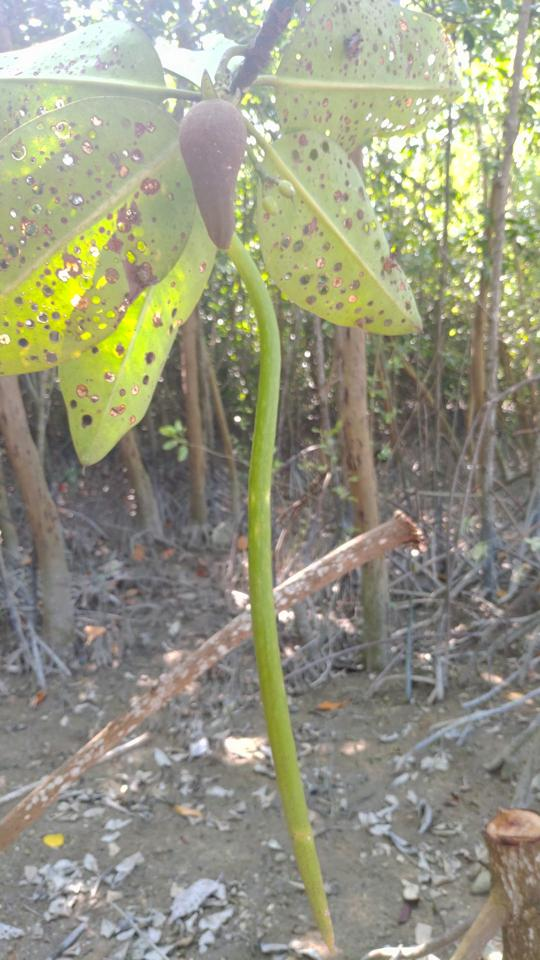mentah: (163, 58, 352, 958)
